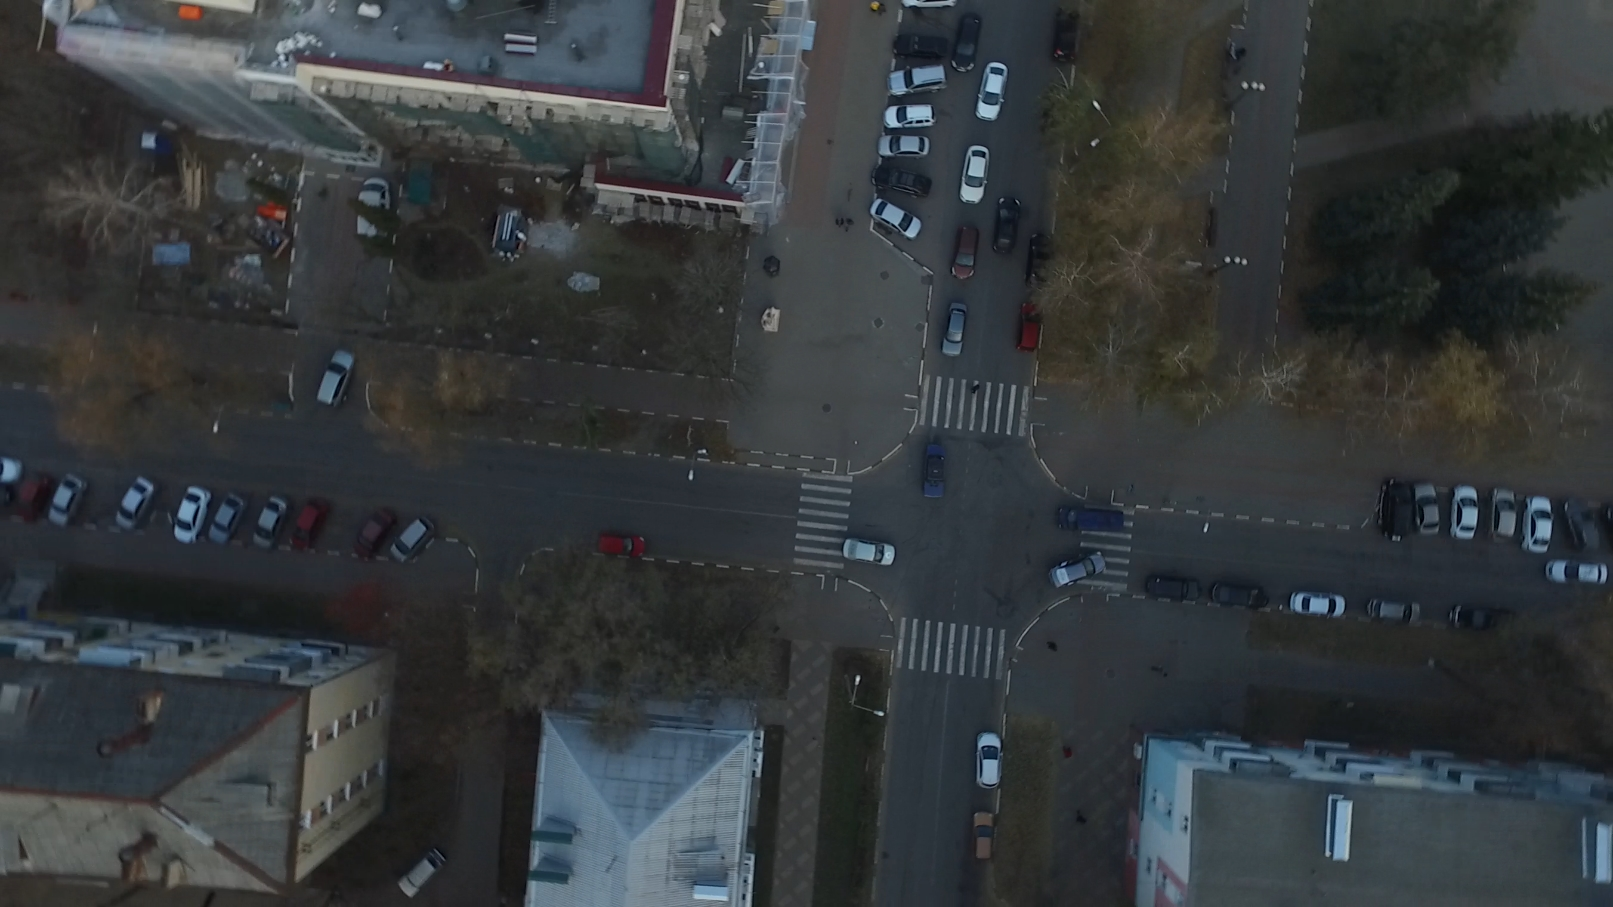car: (388, 842, 450, 899), (1047, 545, 1108, 588), (171, 484, 210, 549), (1562, 495, 1604, 555), (869, 199, 925, 240), (391, 512, 433, 565), (872, 163, 934, 198), (47, 475, 90, 524), (1449, 602, 1519, 632), (318, 350, 355, 406), (956, 145, 990, 205), (355, 507, 392, 561), (115, 480, 155, 530), (1381, 476, 1412, 542), (1519, 496, 1553, 554), (885, 66, 948, 97), (1545, 556, 1605, 588), (289, 499, 323, 555), (1486, 485, 1518, 544), (16, 472, 52, 523), (951, 224, 983, 281), (210, 496, 246, 548), (844, 537, 897, 571), (973, 68, 1007, 121), (1410, 480, 1442, 536), (973, 730, 1001, 792), (253, 497, 285, 553), (1211, 581, 1267, 612), (1292, 587, 1344, 620), (937, 300, 967, 357), (992, 195, 1020, 252), (1451, 483, 1479, 543), (1144, 573, 1199, 602), (892, 30, 946, 60), (1057, 508, 1126, 532), (1365, 594, 1420, 622), (594, 533, 647, 563), (952, 12, 978, 69), (884, 101, 935, 130), (972, 811, 998, 865), (876, 135, 933, 161), (1027, 233, 1052, 288), (1054, 4, 1076, 64), (1017, 301, 1040, 355), (924, 447, 944, 498)
